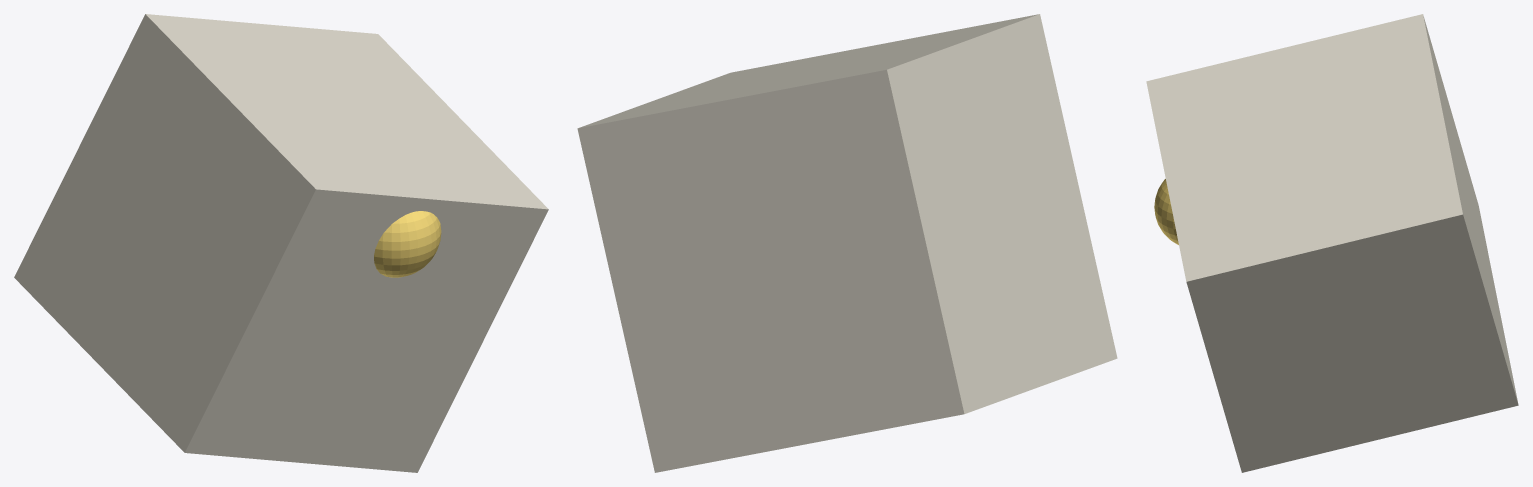
File: monopoly_dice.glb
The picture shows the model from 3 angles, left to right: view 1: azimuth 30°, elevation 25°; view 2: azimuth 150°, elevation 25°; view 3: azimuth 270°, elevation 25°; orthographic projection. The views are drawn at different scales.
Visible parts, largest first — view 1: Cube, Sphere; view 2: Cube; view 3: Cube, Sphere.
Boxes of the visible parts, x1=… form: Cube: x1=14, y1=14, x2=548, y2=472; Sphere: x1=374, y1=211, x2=441, y2=277; Cube: x1=577, y1=14, x2=1117, y2=472; Cube: x1=1146, y1=14, x2=1518, y2=472; Sphere: x1=1154, y1=179, x2=1178, y2=244.
Size of the model in its own units: 1.19 by 1.31 by 1.15.
